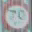Speed limit: (0, 0, 31, 30)
